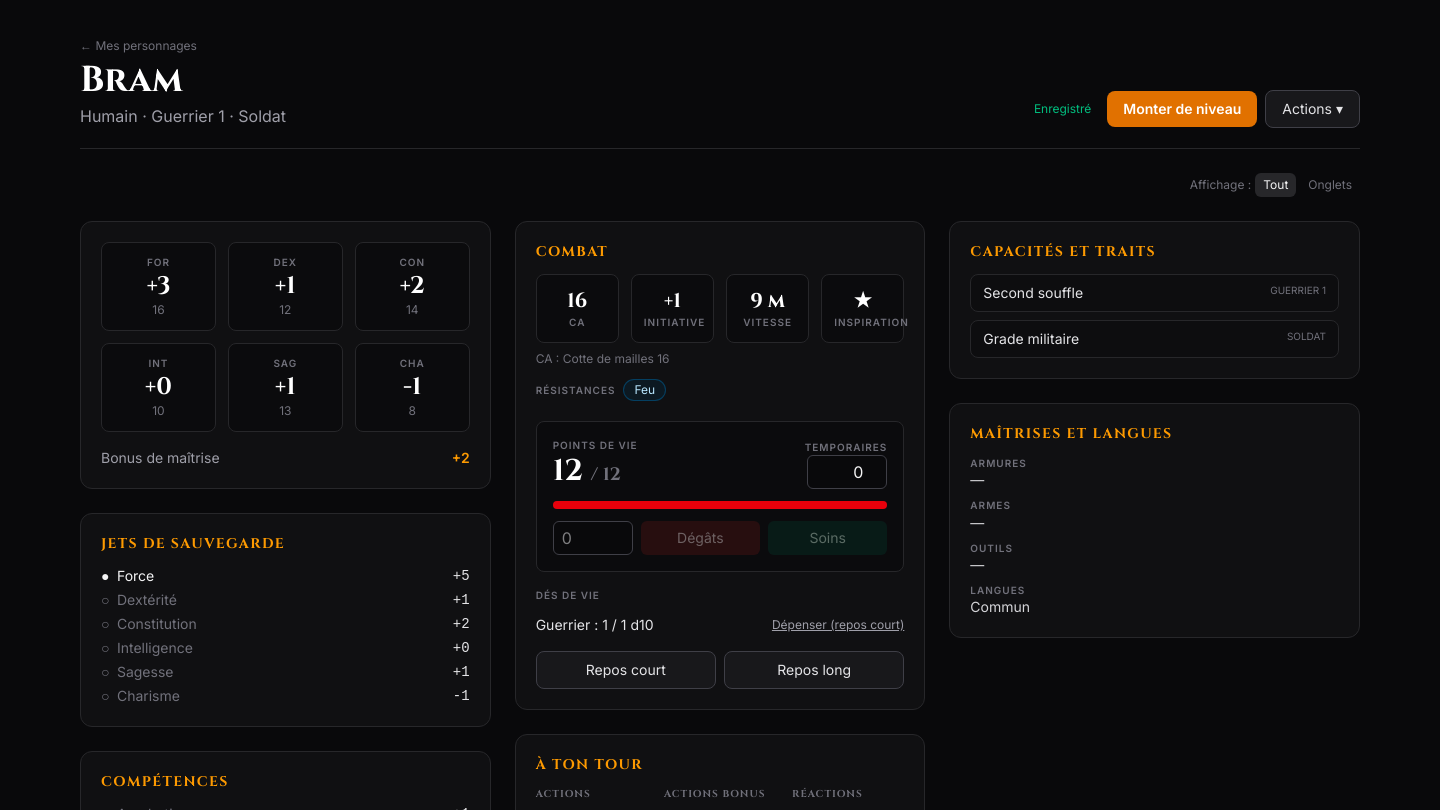
Test: CharacterSheetView › shows what the new level brings, even without a choice to make
Click the button "Monter de niveau" at [1182, 109], box [1107,91,1257,127]
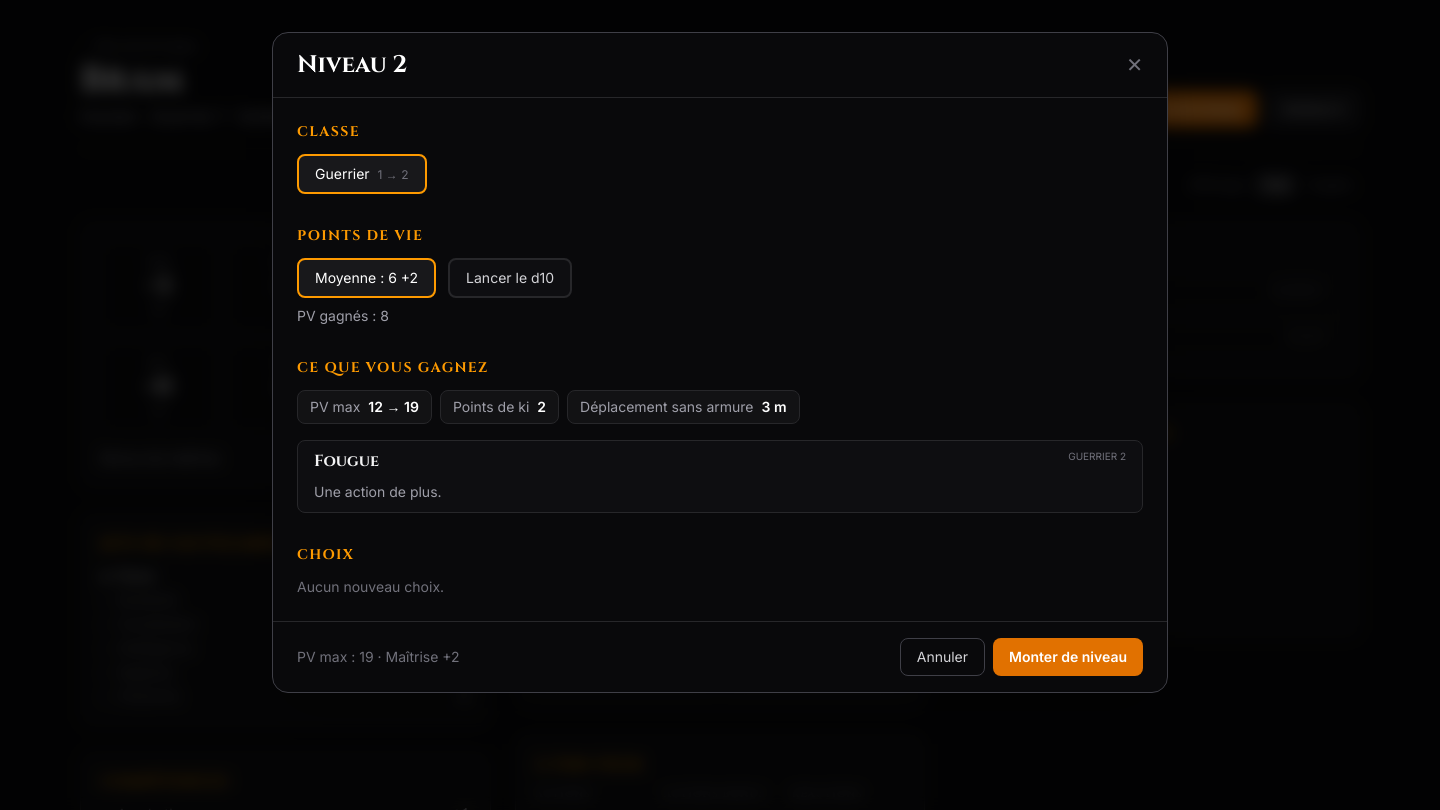
Now the dialog shows "Ce que vous gagnez", box [297,358,489,377]
Now the dialog shows "Fougue", box [314,450,379,472]
Now the dialog shows "Une action de plus.", box [314,483,442,500]
